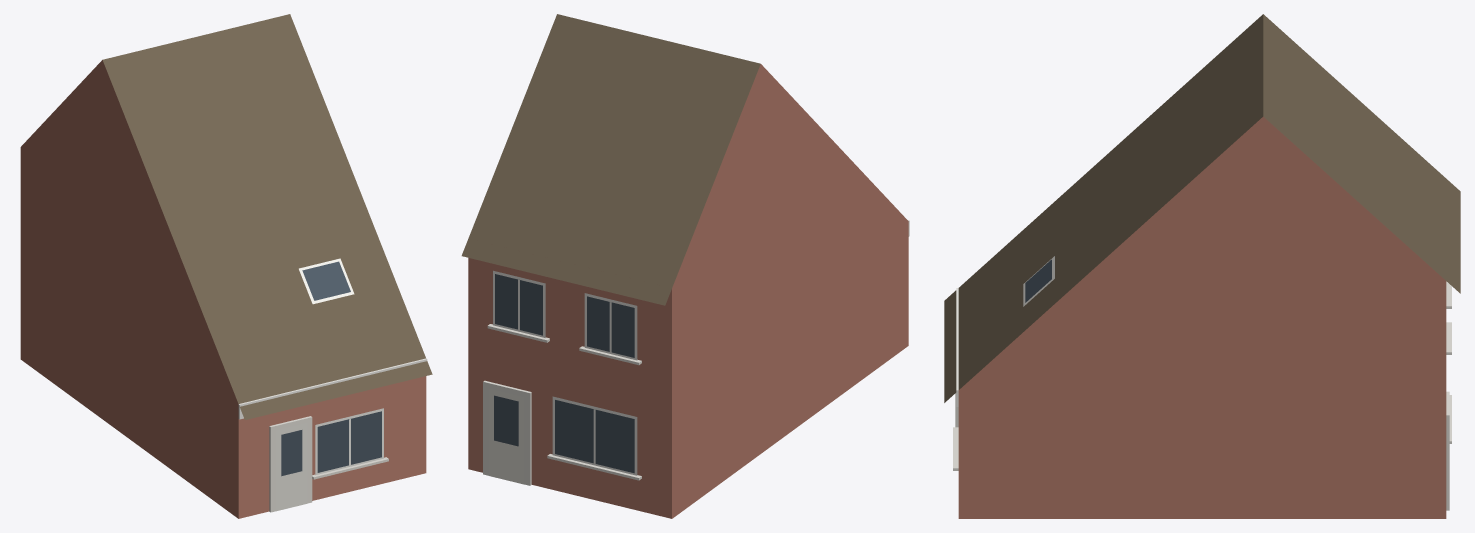
File: nd-ck-roof-house__white-door__2__gable__long__solid.glb
The picture shows the model from 3 angles, left to right: view 1: azimuth 30°, elevation 25°; view 2: azimuth 150°, elevation 25°; view 3: azimuth 270°, elevation 25°; orthographic projection. The views are drawn at different scales.
Visible parts, largest first — view 1: nd-ck-roof-house__white-door__2__gable__long__solid; view 2: nd-ck-roof-house__white-door__2__gable__long__solid; view 3: nd-ck-roof-house__white-door__2__gable__long__solid.
Part boxes in pixels (x1,y1,x2,y2): nd-ck-roof-house__white-door__2__gable__long__solid: (20, 14, 432, 518); nd-ck-roof-house__white-door__2__gable__long__solid: (461, 14, 909, 518); nd-ck-roof-house__white-door__2__gable__long__solid: (944, 14, 1460, 518).
Bounding box in the file's own units: 5.11 × 9.35 × 10.87.
